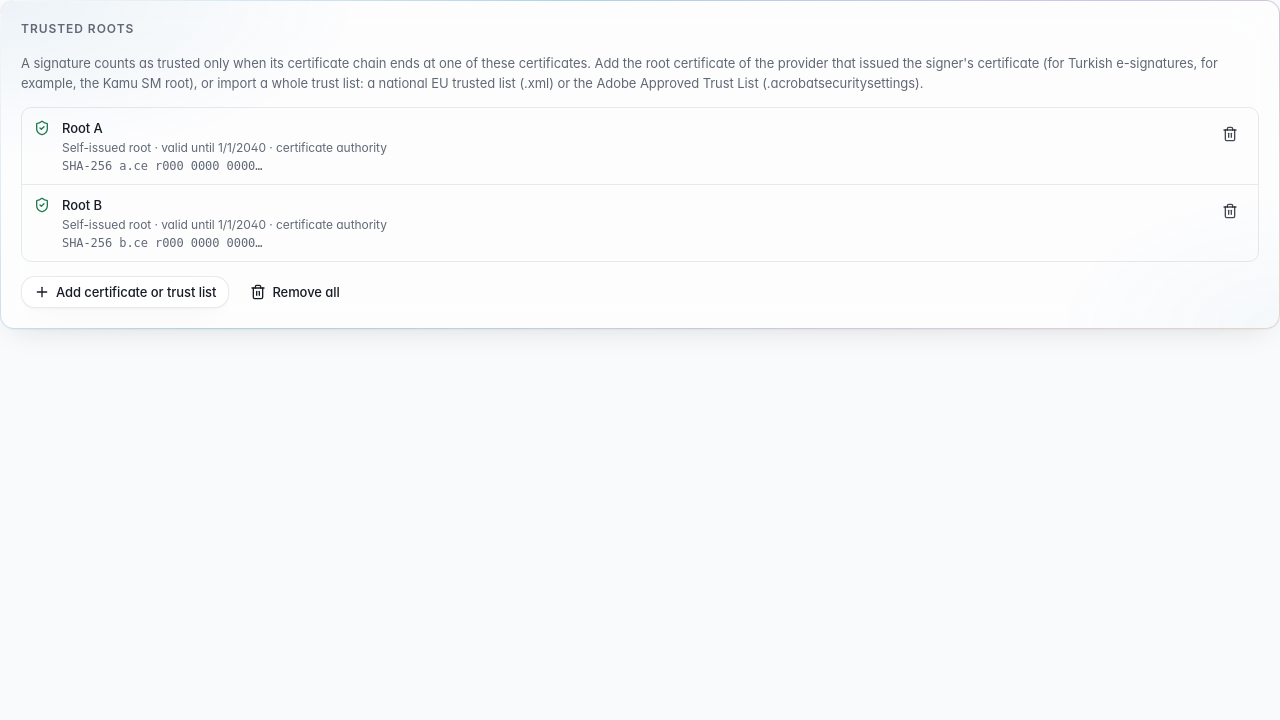
Test case: TrustRootsSection › shows an unsigned list as unverifiable in origin and hides the signer
Check: the text "Root A" is shown, box left=62, top=120, right=103, bottom=136
Click the button "Add certificate or trust list": coordinates (125, 292) left=21, top=276, right=229, bottom=308
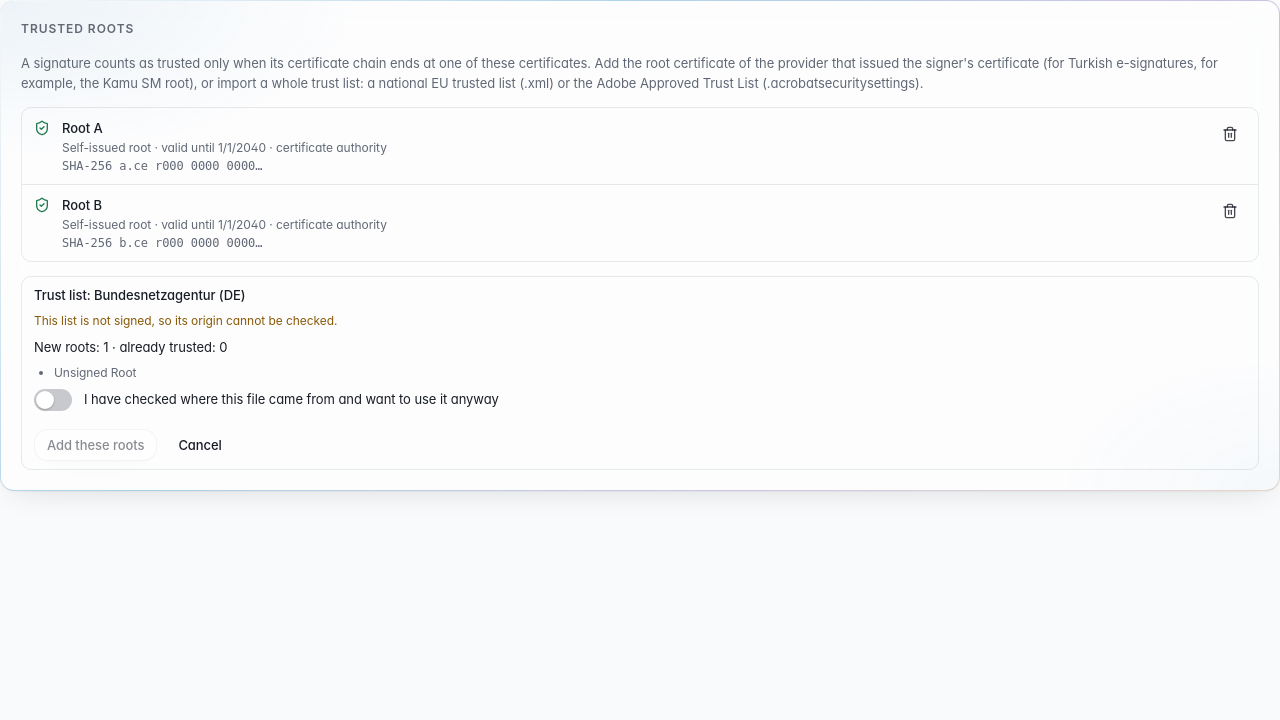
Check: the element named "Review before adding" shows "This list is not signed, so its origin cannot be checked.", box left=34, top=313, right=337, bottom=328
Check: the button "Add these roots" is disabled, box left=34, top=429, right=157, bottom=461
